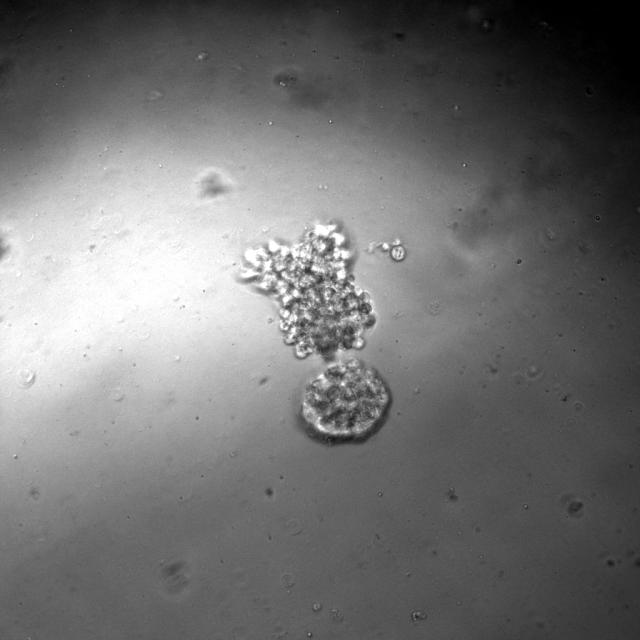organoid: (241, 224, 375, 361), (301, 358, 391, 441), (368, 240, 406, 261)
